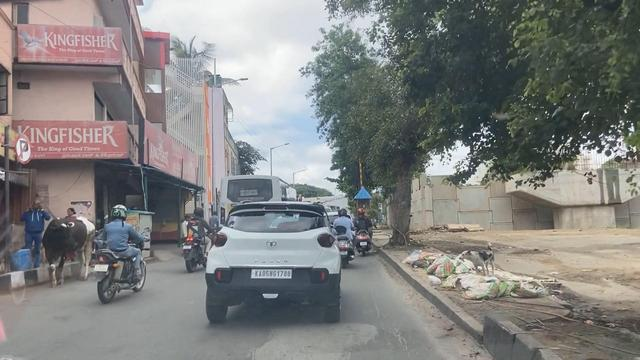LMV: (209, 207, 339, 315), (96, 203, 142, 302), (185, 207, 208, 271), (357, 210, 373, 255)
RoadDamages: (240, 323, 417, 360)
